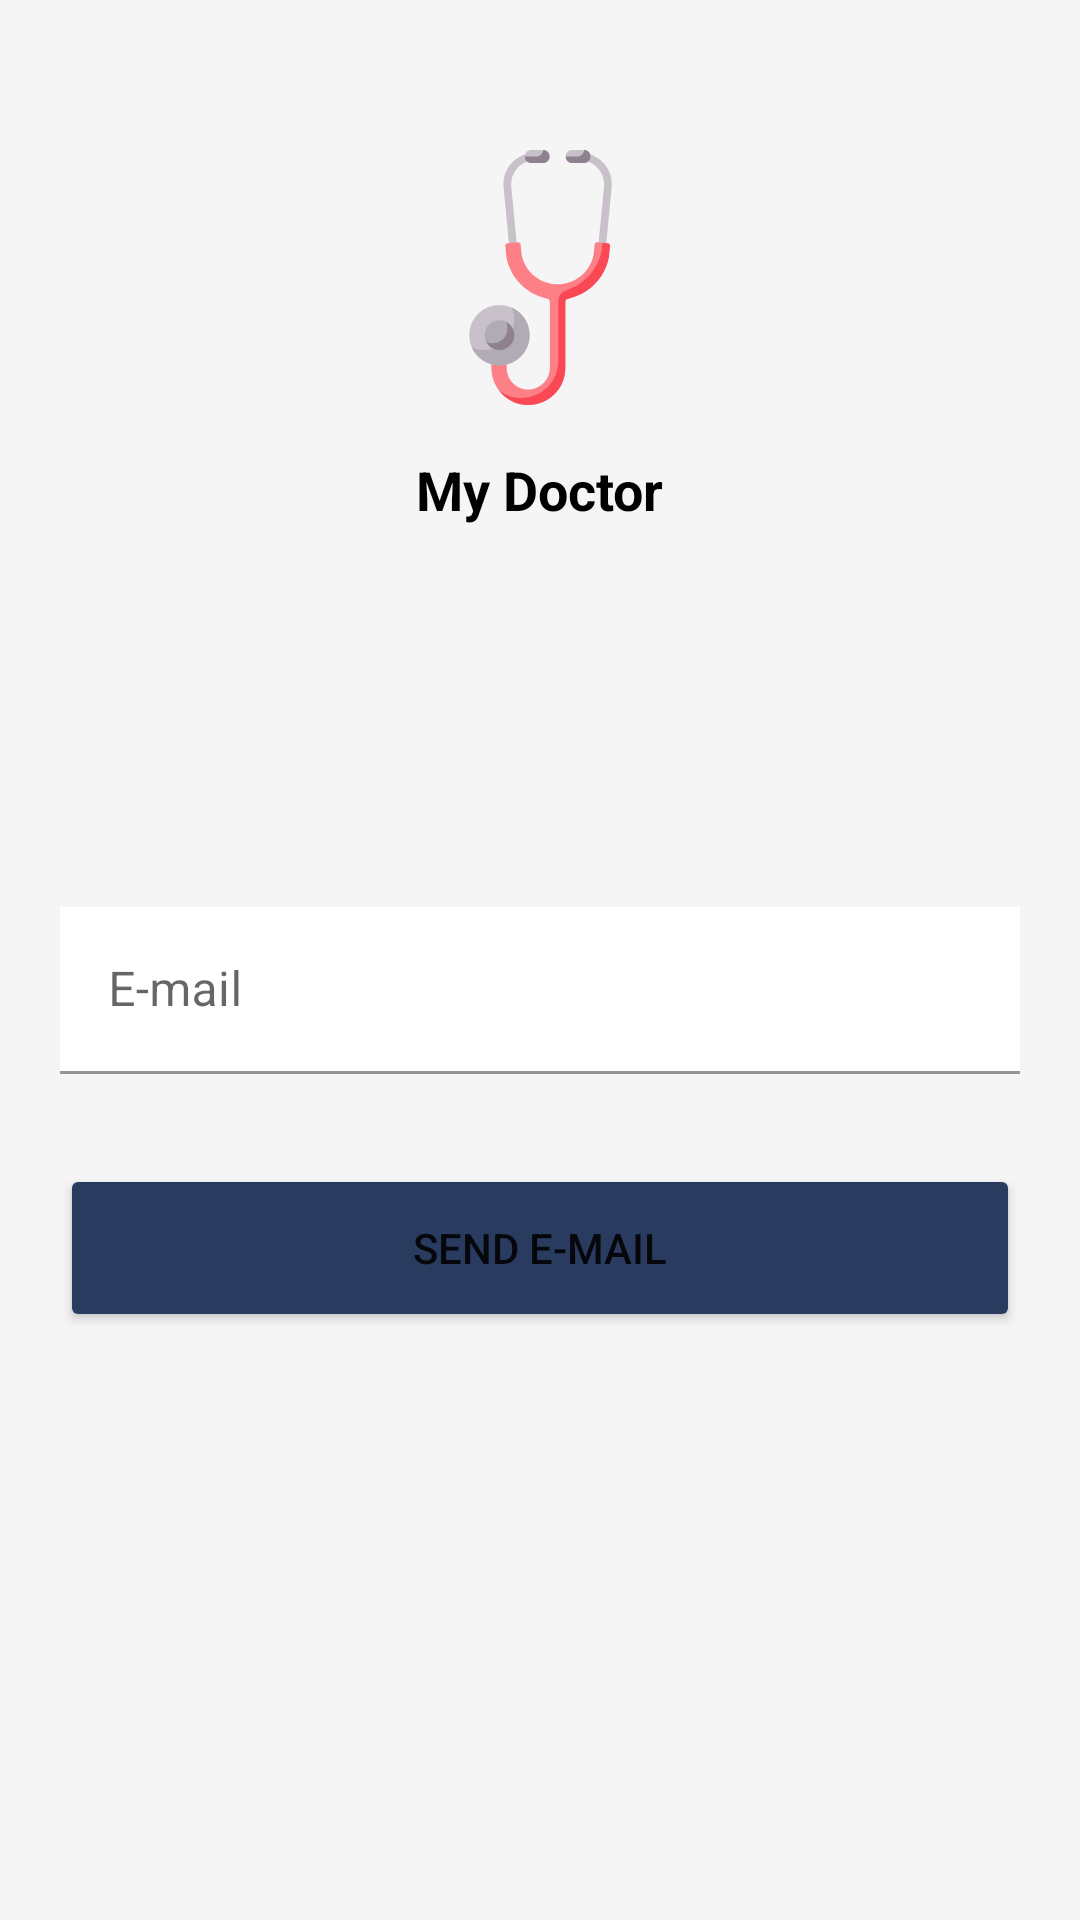

Icon click points for this 1080x1920 phone screenshot, format (x,y):
stethoscope: (540,277)
